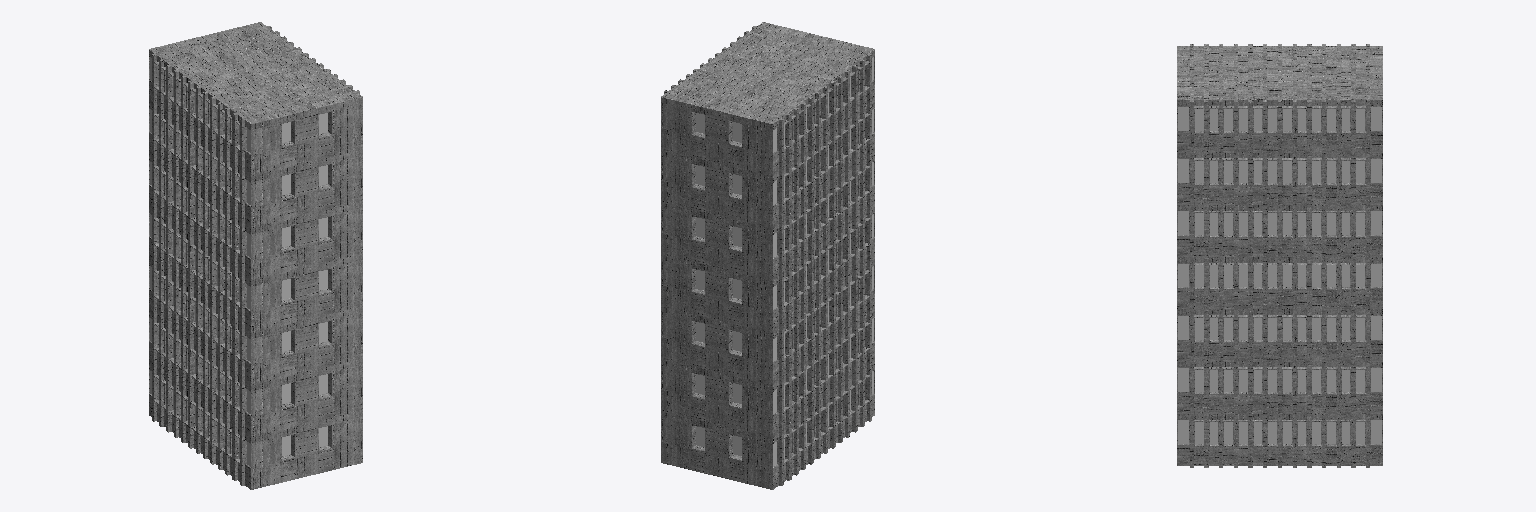
3 views of the same model, side by side, from view 1: azimuth 30°, elevation 25°; view 2: azimuth 150°, elevation 25°; view 3: azimuth 270°, elevation 25° (orthographic).
Parts seen in each view (by area): view 1: Cube; view 2: Cube; view 3: Cube.
Part boxes in pixels (x1,y1,x2,y2): Cube: (149, 22, 362, 489); Cube: (661, 22, 874, 489); Cube: (1177, 44, 1382, 467).
Size of the model in its own units: 5.02 by 14.81 by 7.54.
2 materials, 1 textured.